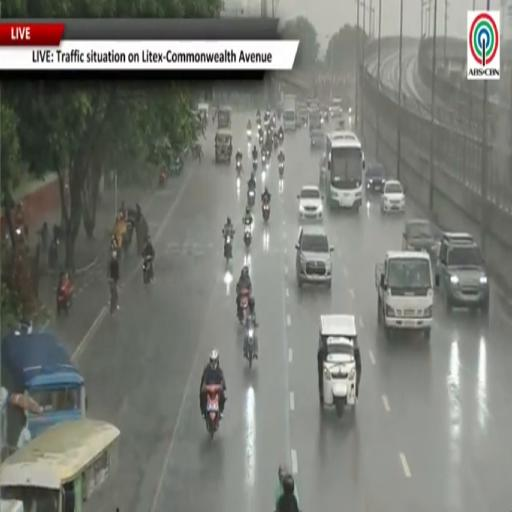bus: (325, 132, 365, 210)
car: (318, 315, 359, 417), (437, 233, 489, 313), (295, 226, 333, 287), (402, 219, 440, 264), (297, 186, 323, 220), (381, 181, 405, 213), (365, 163, 386, 193)
jeepney: (0, 420, 119, 511), (2, 333, 86, 445), (215, 128, 232, 163), (217, 106, 231, 130), (310, 130, 324, 150), (198, 103, 209, 127), (0, 500, 23, 511)
motorcycle: (204, 384, 223, 438), (48, 224, 62, 269), (57, 279, 73, 314), (244, 326, 255, 369), (237, 288, 250, 324), (122, 218, 134, 252), (48, 236, 59, 269), (143, 256, 153, 284), (224, 234, 232, 264), (244, 224, 251, 247), (262, 202, 270, 222), (159, 170, 167, 186), (248, 189, 255, 207), (262, 150, 267, 167), (279, 162, 284, 178), (236, 160, 242, 173), (279, 132, 284, 143), (253, 158, 257, 171), (274, 137, 278, 150), (257, 120, 261, 131), (259, 134, 263, 145), (247, 130, 251, 140)
truck: (375, 251, 438, 339), (283, 94, 296, 131)
